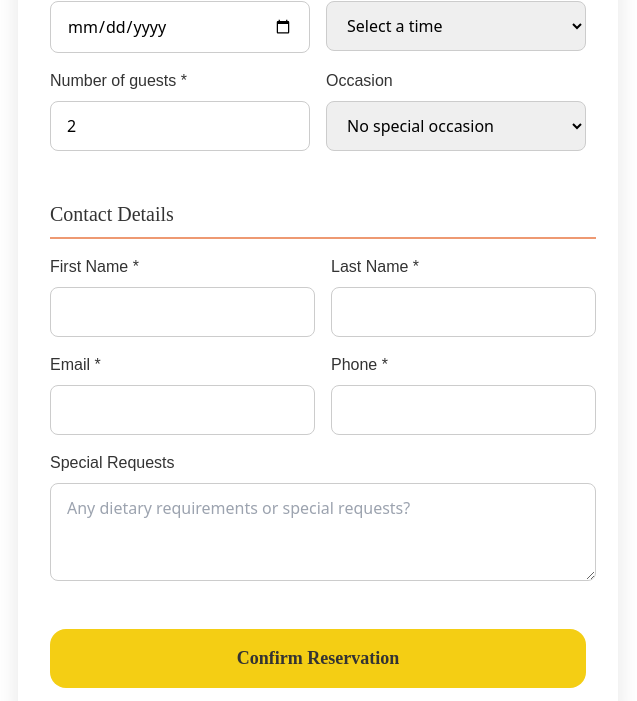
Scenario: BookingForm validation - valid states › clears error when user corrects invalid field
(page scrolled)
Click the button "Confirm Reservation" at [318, 658], box [50,629,586,688]
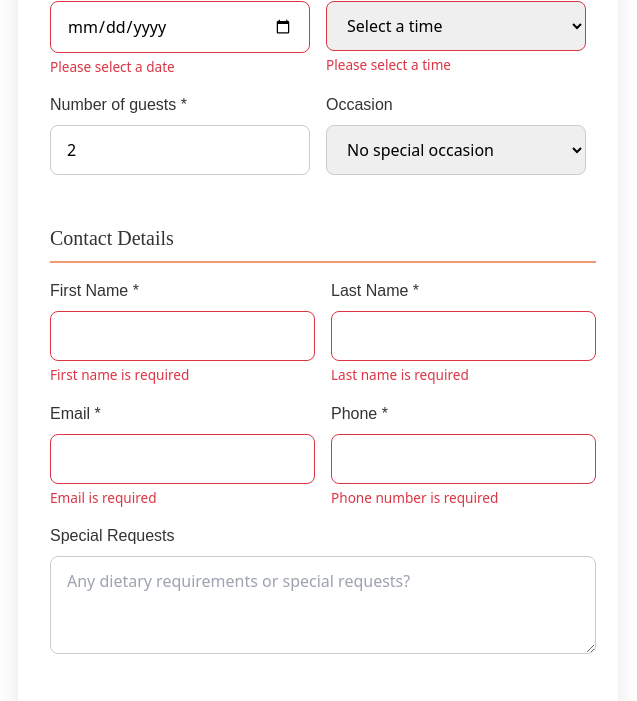
Now the text "Please select a date" is shown, box [50,57,175,76]
# Now fill the date field
Type "2025-03-15" into the date field labelled "Date *" at [180, 27], box [50,1,310,53]
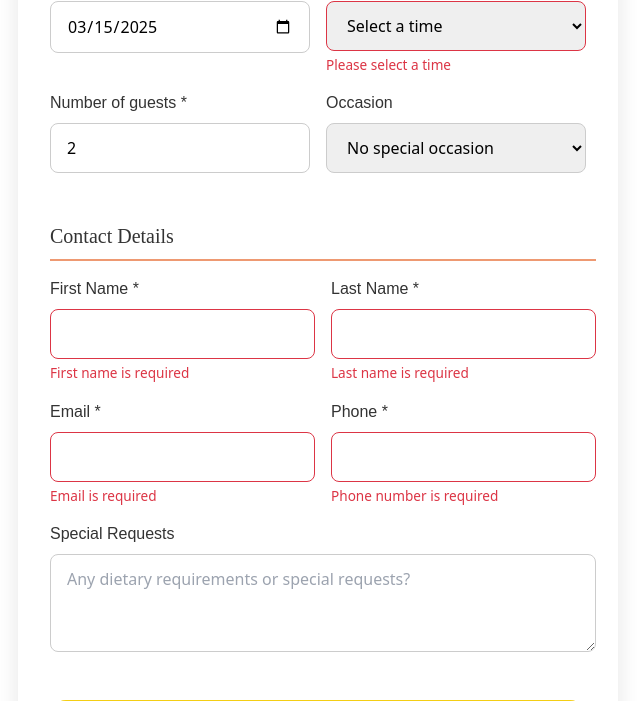
Now the text "Please select a date" is gone
